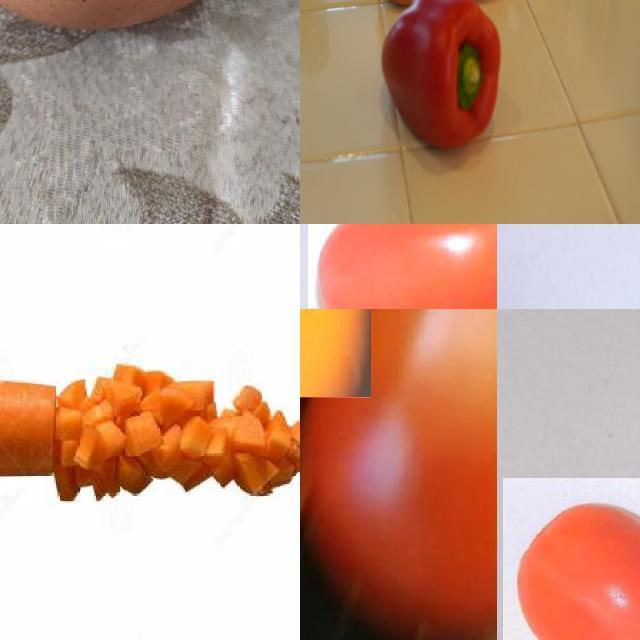bell_pepper: (368, 1, 506, 154)
tomato: (301, 310, 498, 640), (504, 479, 640, 640), (309, 225, 498, 310)
